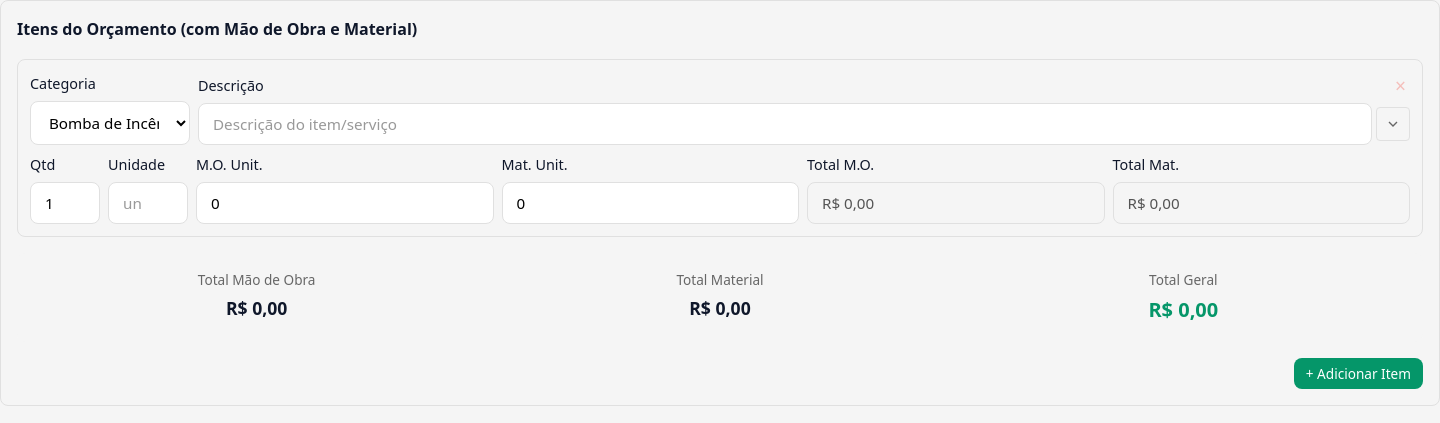
Test: ItensCompleto › Dropdown de itens pré-definidos › deve mostrar mensagem quando não há itens pré-definidos
The image size is (1440, 423).
Click the button titled "Ver itens pré-definidos" at (1393, 124), box [1376,107,1410,141]
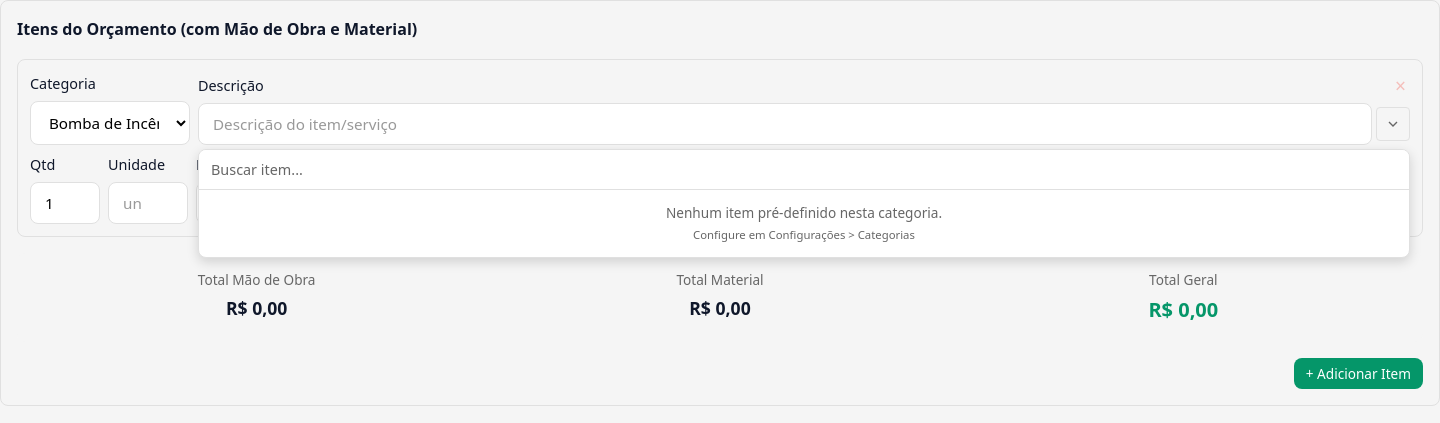
Expected: the text "Nenhum item pré-definido nesta categoria." is shown, [666,203,942,222]
